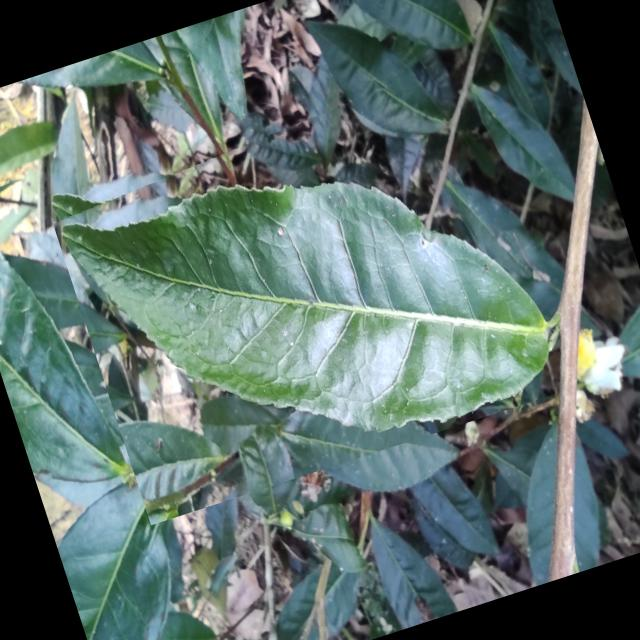Category D(7+ days, Not for Tea): (43, 56, 572, 526)
